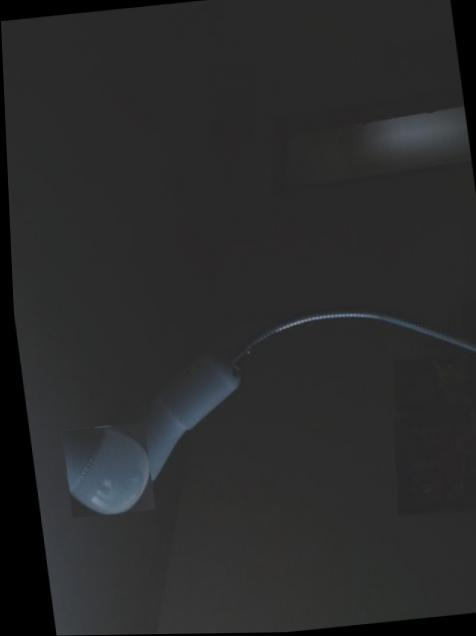Fan: (55, 421, 149, 517)
